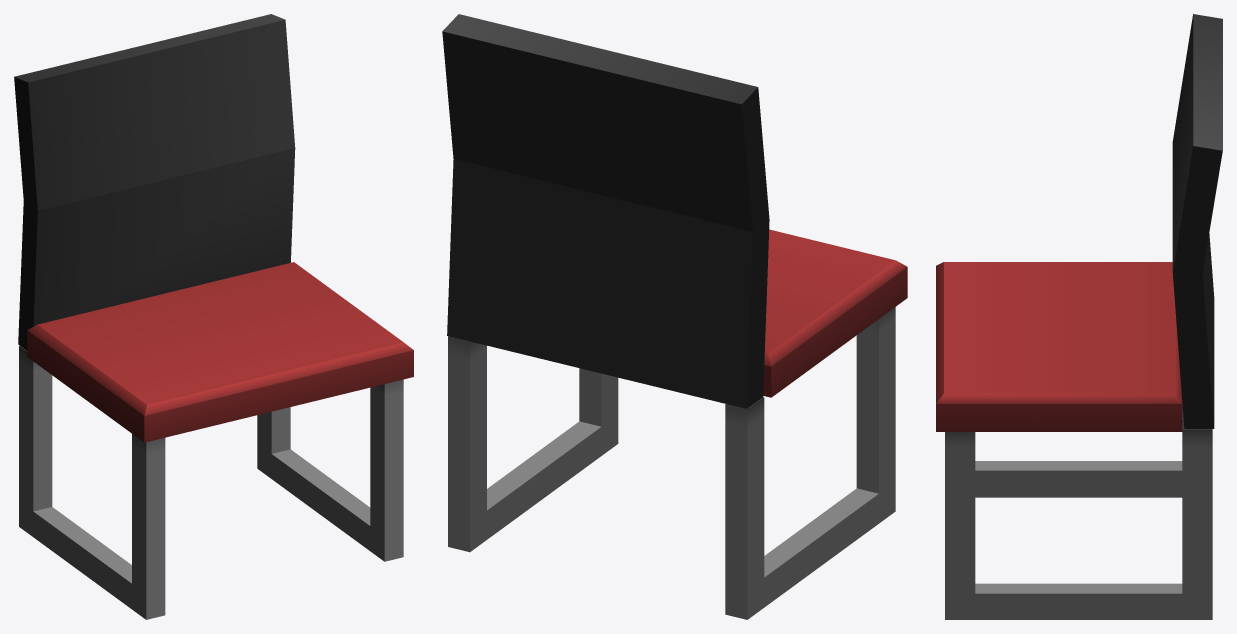
Rendered from scene_deskchair.fbx.
3 renders of one model, left to right at view 1: azimuth 30°, elevation 25°; view 2: azimuth 150°, elevation 25°; view 3: azimuth 270°, elevation 25°, orthographic. The views are drawn at different scales.
Parts seen in each view (by area): view 1: mesh_desk_chair; view 2: mesh_desk_chair; view 3: mesh_desk_chair.
Boxes of the visible parts, x1,y1,x2,y2 form: mesh_desk_chair: (14,14,413,619); mesh_desk_chair: (442,14,907,619); mesh_desk_chair: (936,14,1222,619).
Size of the model in its own units: 0.6808 by 1.09 by 0.5968.
